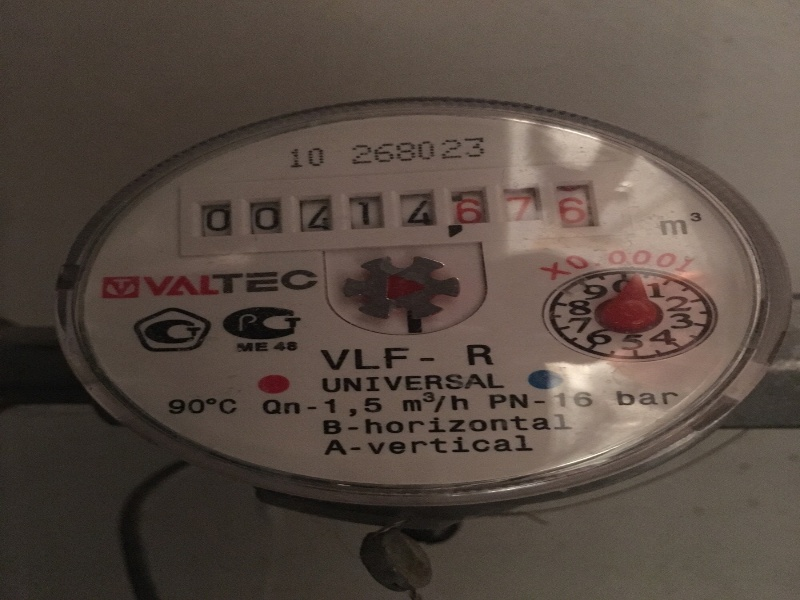meter: (188, 185, 596, 238)
